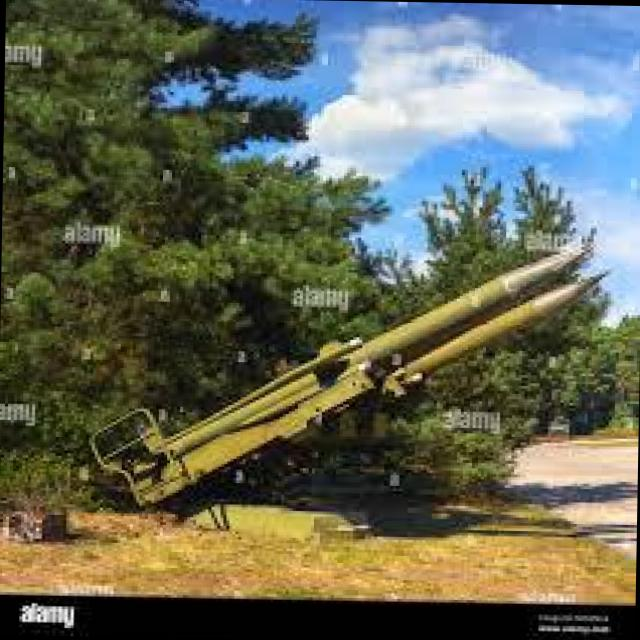rocket: (102, 218, 605, 514)
